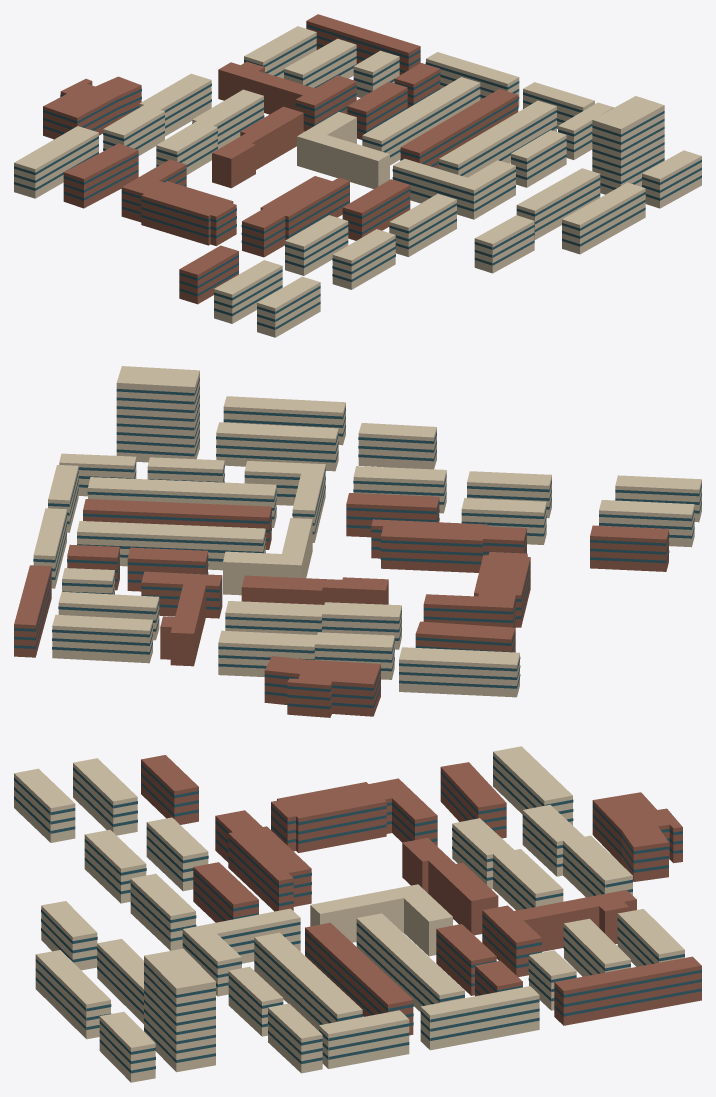
The model's file is city_9_0.glb.
The picture shows the model from 3 angles, top to bottom: view 1: azimuth 30°, elevation 25°; view 2: azimuth 150°, elevation 25°; view 3: azimuth 270°, elevation 25°; orthographic projection. The views are drawn at different scales.
Visible parts, largest first — view 1: city_9_0; view 2: city_9_0; view 3: city_9_0.
Boxes of the visible parts, x1=… form: city_9_0: x1=14, y1=14, x2=701, y2=337; city_9_0: x1=14, y1=366, x2=701, y2=717; city_9_0: x1=14, y1=746, x2=701, y2=1082.
Bounding box in the file's own units: 279 × 36 × 268.
